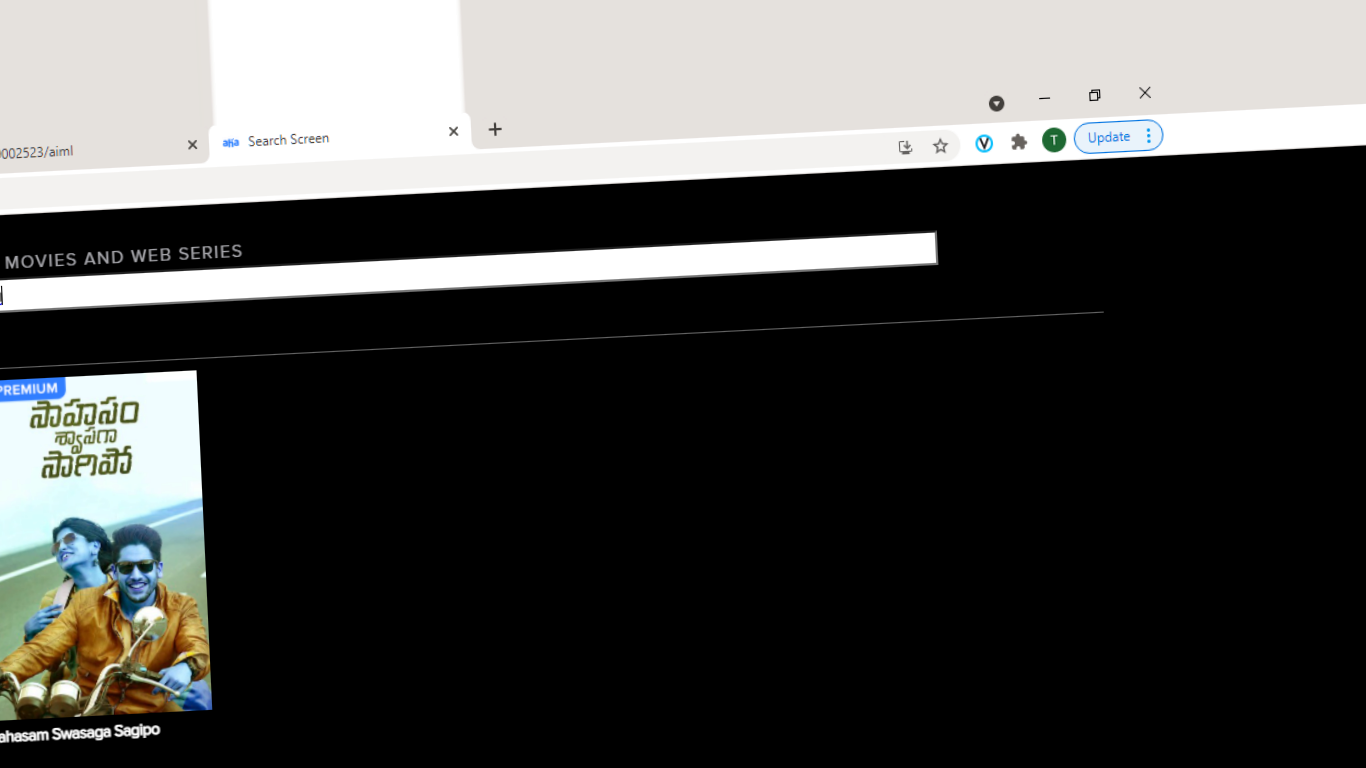searchtextbox: (1, 222, 942, 316)
